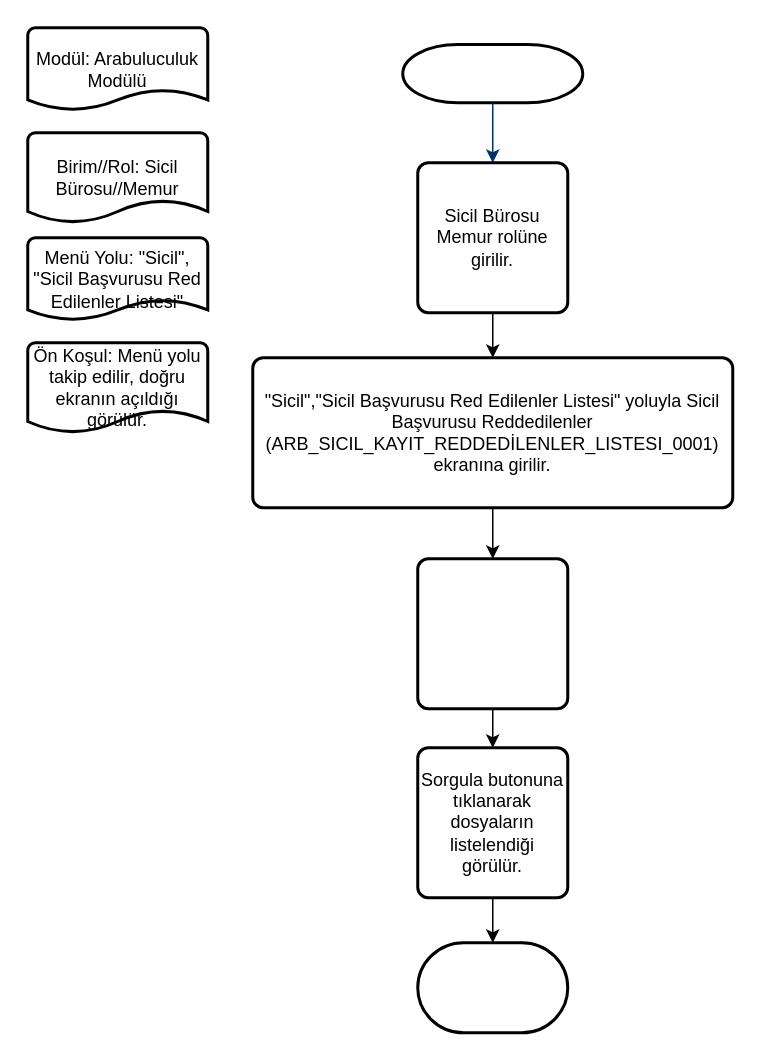
Image size: 759x1059. Some labels were removed from this diagram. Each missing label, with the centre of its shape:
"Başla" goes at (492,73).
"Bitir" goes at (492,987).
"Tarih kutucuğuna geçmiş 3 ayın tarihi girilir." goes at (492,633).
